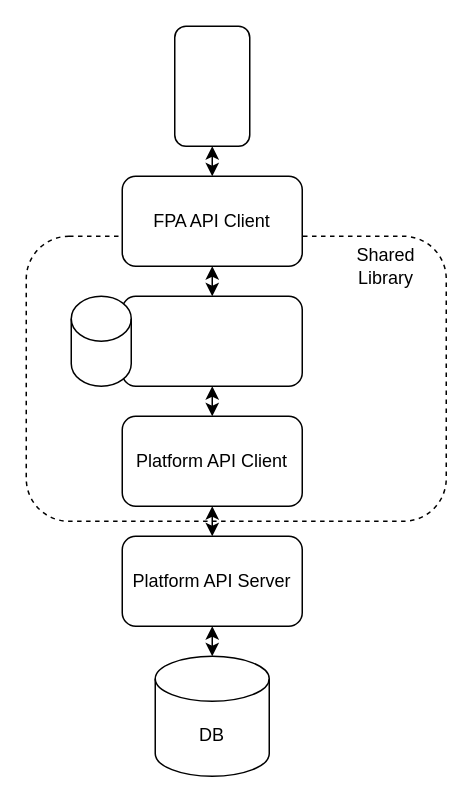
The diagram is 473 pixels wide and 803 high, and some of its shapes have lost their labels. The shapes that lost their labels are listed below. From the top down, each one's centre as x and y in pixels, then its label:
the point at 211,85: UI
the point at 211,340: FPA API Server
